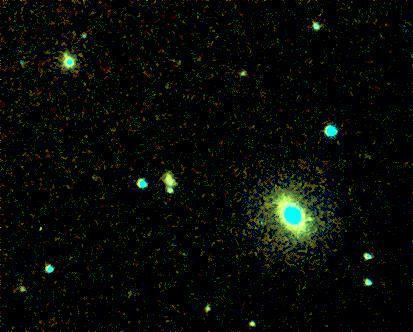star: (294, 203, 324, 233)
